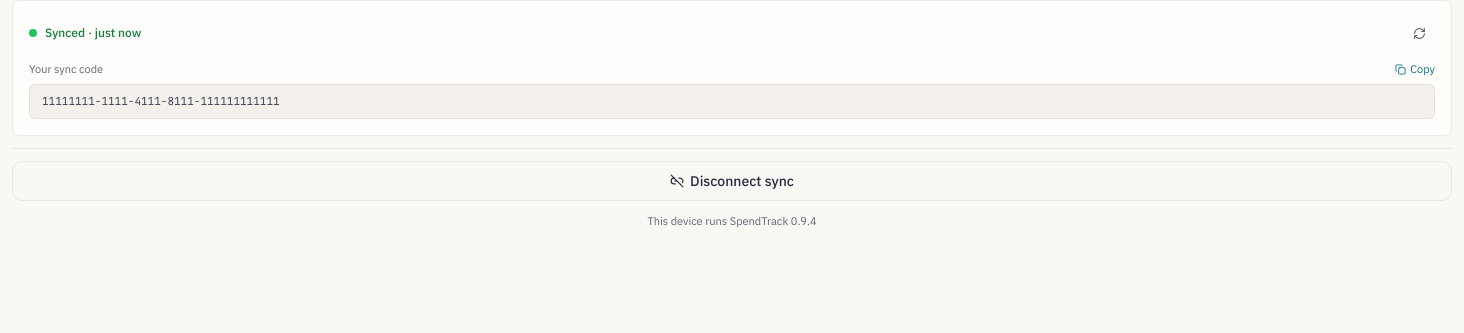
Test: Disconnect › Escape takes back the question, not Settings, and focus returns to Disconnect sync
Click the button "Disconnect sync". click: [732, 181]
box: [12,161,1452,201]
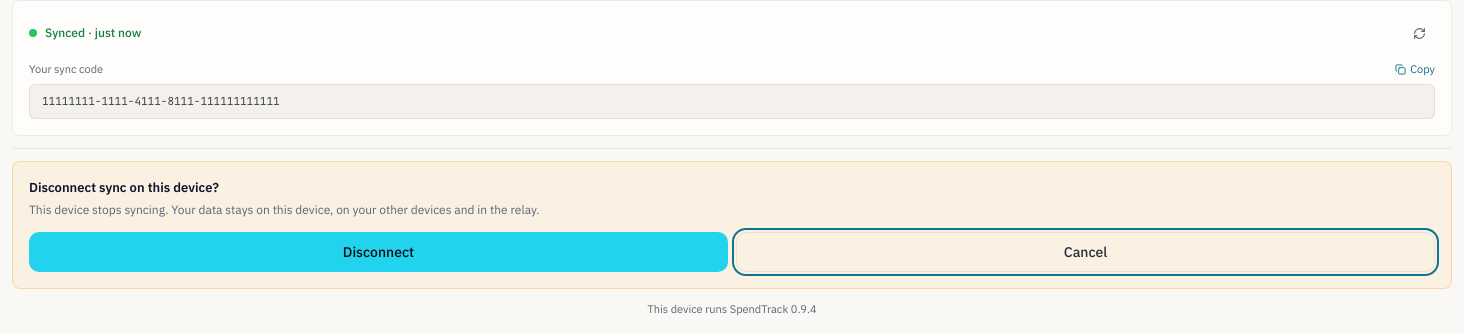
# A handled Escape (default prevented) is one the layer stack leaves: Settings stays open.
Press Escape in the button "Cancel", box [736,232,1435,272]
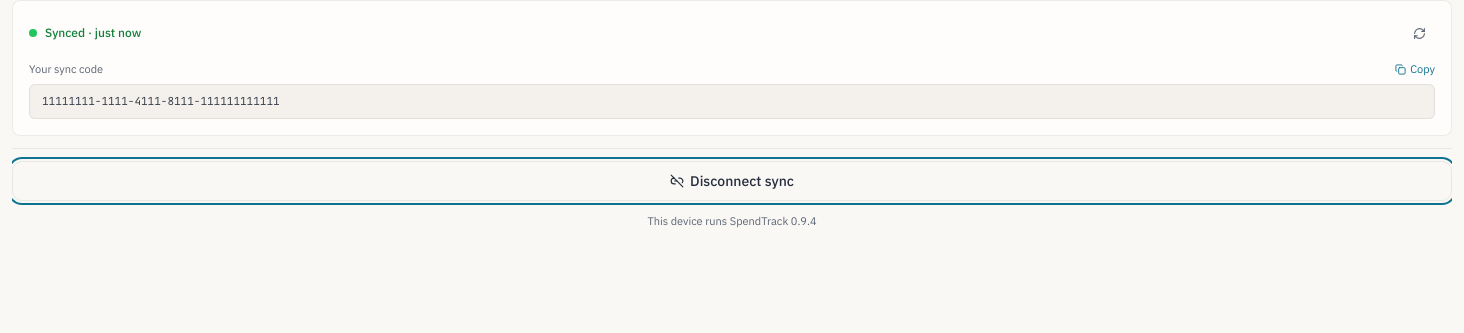
Result: the text "Disconnect sync on this device" is gone
